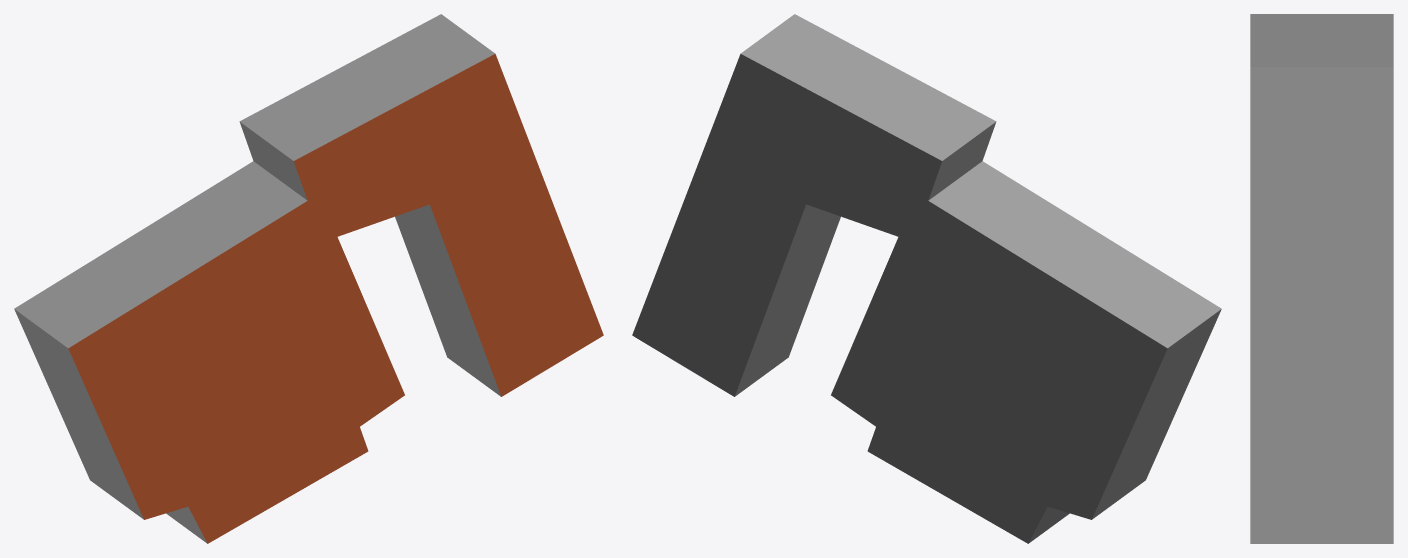
Rendered from construction_2461_assumed_A_Casa_h6m.obj.
The picture shows the model from 3 angles, left to right: view 1: azimuth 30°, elevation 25°; view 2: azimuth 150°, elevation 25°; view 3: azimuth 270°, elevation 25°; orthographic projection. The views are drawn at different scales.
Parts seen in each view (by area): view 1: construction_2461_assumed_A_Casa; view 2: construction_2461_assumed_A_Casa; view 3: construction_2461_assumed_A_Casa.
Part boxes in pixels (bbox=[...]): construction_2461_assumed_A_Casa: bbox=[14, 14, 603, 543]; construction_2461_assumed_A_Casa: bbox=[632, 14, 1221, 543]; construction_2461_assumed_A_Casa: bbox=[1250, 14, 1393, 543].
Size of the model in its own units: 34.22 by 25.65 by 6.
